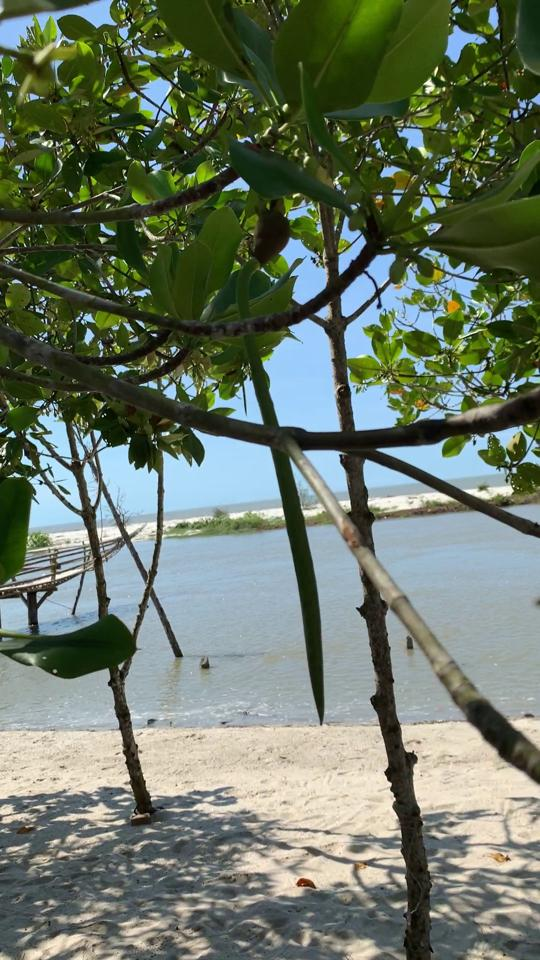setengah matang: (227, 195, 341, 733)
